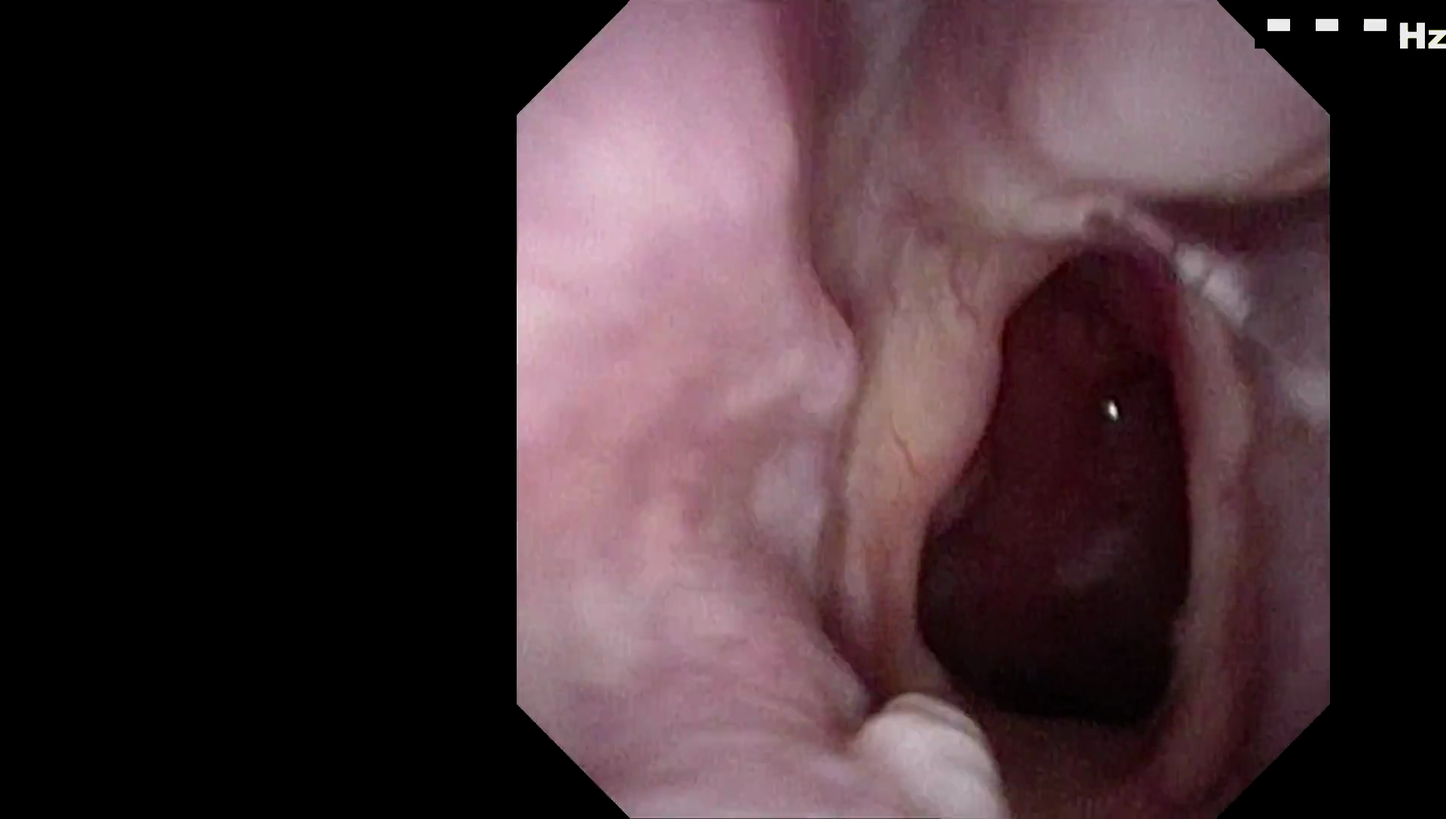next: (906, 477, 1229, 778)
